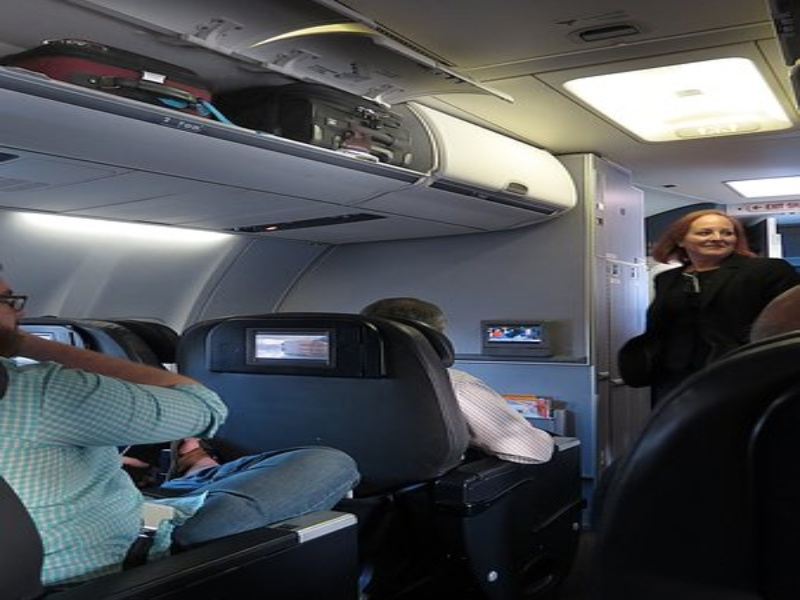close_bin: (406, 97, 580, 229)
open_bin: (2, 1, 447, 218)
